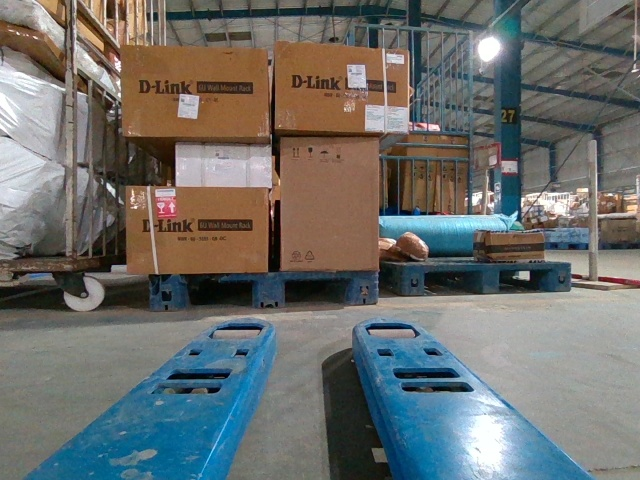block: (151, 271, 188, 313), (251, 275, 288, 308), (348, 274, 378, 302), (402, 266, 423, 294), (551, 263, 571, 290), (479, 264, 496, 293)
front: (151, 272, 379, 308), (404, 262, 572, 294)
hole pallet: (186, 280, 255, 308), (283, 276, 354, 302), (423, 270, 483, 294), (499, 269, 553, 291)
